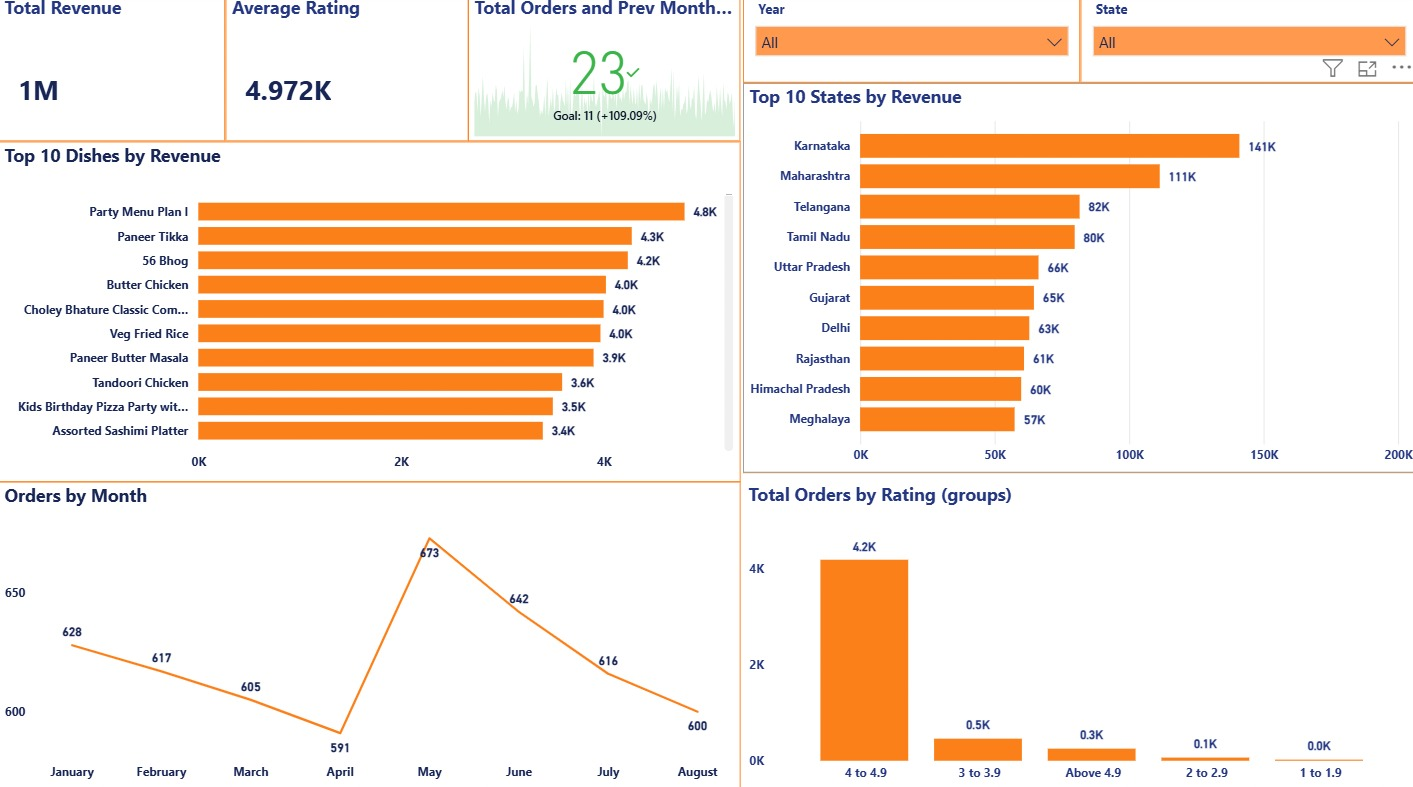

Layout of this report page (visuals, bound fields, positions):
{"tool":"powerbi","page":{"name":"Swiggy Data Analysis","canvas":[1280,720],"ordinal":0},"visuals":[{"type":"clusteredColumnChart","fields":{"Category":["Table1.Order Date.Variation.Date Hierarchy.Year","Table1.Order Date.Variation.Date Hierarchy.Quarter","Table1.Order Date.Variation.Date Hierarchy.Month","Table1.Order Date.Variation.Date Hierarchy.Day"],"Y":["CountNonNull(Table1.Dish Name)"]},"box":[0,440,539,280.2],"z":0},{"type":"donutChart","fields":{"Category":["Table1.Rating (groups)"],"Y":["CountNonNull(Table1.Dish Name)"]},"box":[659.3,440,538.8,280],"z":1000},{"type":"clusteredBarChart","fields":{"Category":["Table1.Dish Name"],"Y":["Sum(Table1.Price (INR))"]},"box":[0,132.5,660,307.5],"z":2000},{"type":"cardVisual","title":"Total Price","fields":{"Data":["Sum(Table1.Price (INR))"]},"box":[0,0,205,132.5],"z":3000},{"type":"cardVisual","title":"Count of Category","fields":{"Data":["CountNonNull(Table1.Category)"]},"box":[204.9,0,219.3,132.7],"z":5000},{"type":"kpi","fields":{"Goal":["CountNonNull(Table1.Order Date)"],"Indicator":["Sum(Table1.Rating Count)"],"TrendLine":["Table1.State"]},"box":[435.7,0,223.6,132.7],"z":5001},{"type":"map","fields":{"Category":["Table1.State"],"Size":["Sum(Table1.Price (INR))"]},"box":[1050.4,244.6,230,307.1],"z":5002},{"type":"slicer","fields":{"Values":["Table1.Order Date.Variation.Date Hierarchy.Year"]},"box":[704.4,2.4,248.2,83.2],"z":5003},{"type":"slicer","fields":{"Values":["Table1.State"]},"box":[988,3.7,228.7,79.5],"z":5004}]}

Visuals, with their boxes in screenshot pixels (x1, y1, x2, y2), scaled from the page's 1280x720 canvas onto the 1413x787 screenshot:
clusteredColumnChart - Table1.Order Date.Variation.Date Hierarchy.Year x Table1.Order Date.Variation.Date Hierarchy.Quarter: BBox(0, 481, 595, 786)
donutChart - Table1.Rating (groups) x CountNonNull(Table1.Dish Name): BBox(728, 481, 1323, 786)
clusteredBarChart - Table1.Dish Name x Sum(Table1.Price (INR)): BBox(0, 145, 729, 481)
"Total Price" cardVisual: BBox(0, 0, 226, 145)
"Count of Category" cardVisual: BBox(226, 0, 468, 145)
kpi - CountNonNull(Table1.Order Date) x Sum(Table1.Rating Count): BBox(481, 0, 728, 145)
map - Table1.State x Sum(Table1.Price (INR)): BBox(1160, 267, 1412, 603)
slicer - Table1.Order Date.Variation.Date Hierarchy.Year: BBox(778, 3, 1052, 94)
slicer - Table1.State: BBox(1091, 4, 1343, 91)
